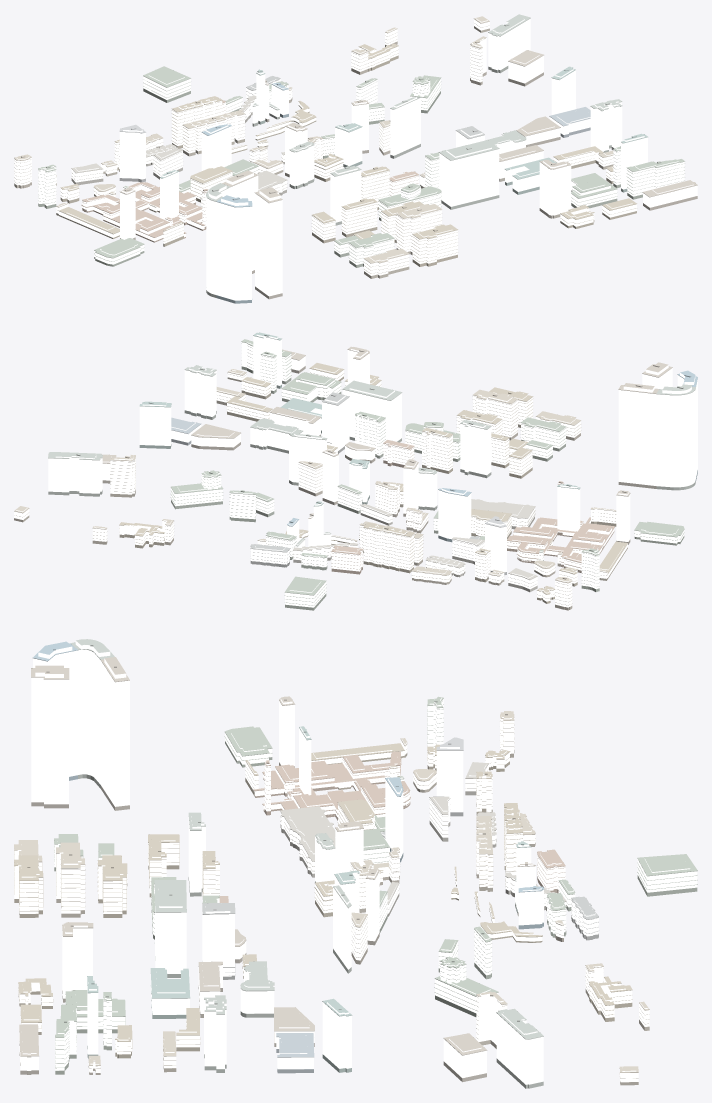
The model's file is buildings-6_3-fine.glb.
3 views of the same model, one above another, from view 1: azimuth 30°, elevation 25°; view 2: azimuth 150°, elevation 25°; view 3: azimuth 270°, elevation 25° (orthographic). The views are drawn at different scales.
Visible parts, largest first — view 1: block_6_3_office, block_6_3_residential, block_6_3_roof, block_6_3_darkglass, block_6_3_concrete, block_6_3_steel; view 2: block_6_3_office, block_6_3_residential, block_6_3_roof, block_6_3_darkglass, block_6_3_concrete, block_6_3_steel; view 3: block_6_3_office, block_6_3_roof, block_6_3_residential, block_6_3_darkglass, block_6_3_concrete, block_6_3_steel.
Part boxes in pixels (box(x1,y1,x2,y2)): block_6_3_office: box(119, 18, 697, 300); block_6_3_residential: box(14, 18, 684, 275); block_6_3_roof: box(14, 14, 697, 300); block_6_3_darkglass: box(14, 26, 697, 303); block_6_3_concrete: box(14, 19, 684, 273); block_6_3_steel: box(120, 18, 697, 207); block_6_3_office: box(48, 334, 697, 572); block_6_3_residential: box(14, 342, 684, 607); block_6_3_roof: box(14, 332, 697, 607); block_6_3_darkglass: box(14, 366, 697, 610); block_6_3_concrete: box(14, 341, 684, 605); block_6_3_steel: box(48, 335, 694, 546); block_6_3_office: box(19, 641, 543, 1084); block_6_3_roof: box(14, 639, 697, 1084); block_6_3_residential: box(14, 698, 697, 1082); block_6_3_darkglass: box(14, 741, 697, 1088); block_6_3_concrete: box(14, 698, 697, 1078); block_6_3_steel: box(20, 649, 543, 1057).
Bounding box in the file's own units: 660 × 118 × 543.
